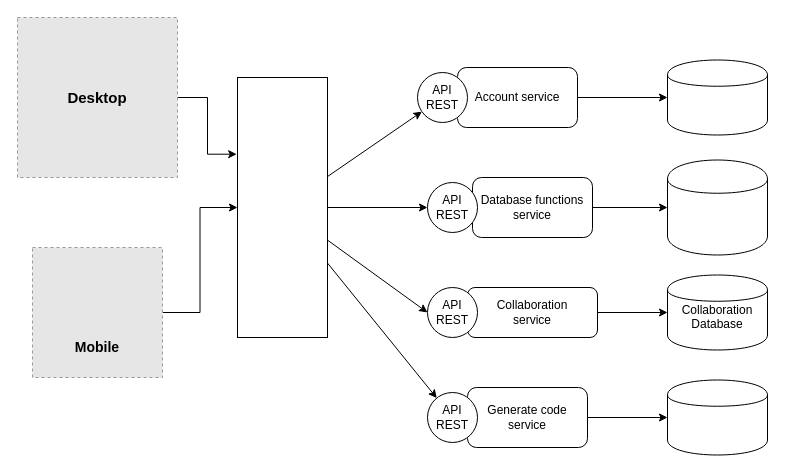
This 785x473 diagram has some shape labels left out. Grey dashed boxes stand in for pictures. The centre of each missing label's shape, as x and y in pixels:
"Account Database" goes at point 717,97.
"API GATEWAY" goes at point 282,207.
"Data management Database" goes at point 717,207.
"Generate code Database" goes at point 717,417.
